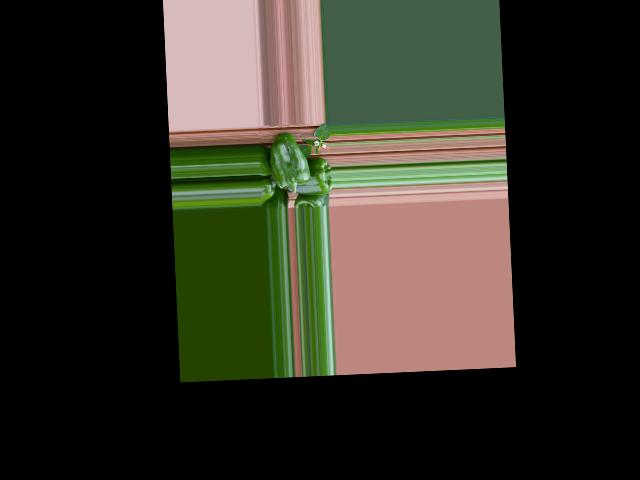bell_pepper: (259, 179, 278, 206)
